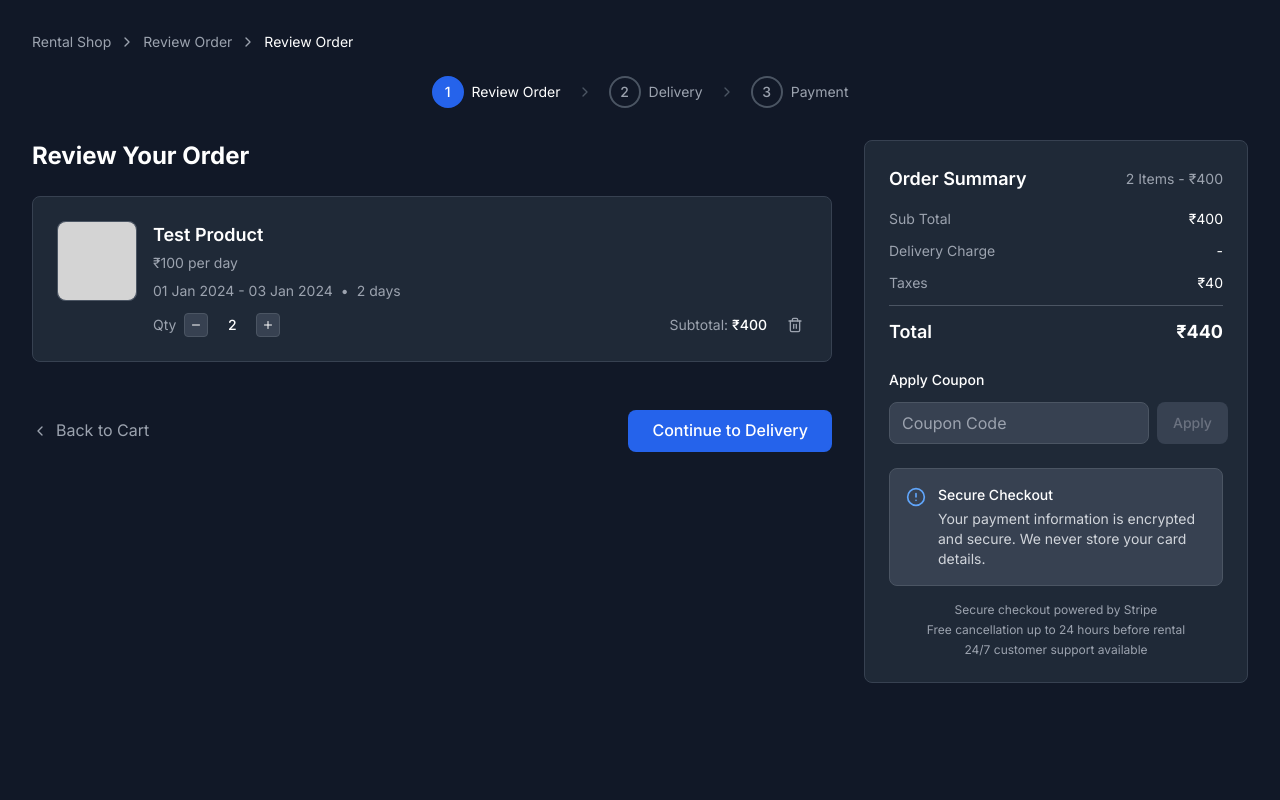
Test: CheckoutPage › navigates through checkout steps without validation
Check: the heading "Review Your Order" is shown, box top-left (32, 141), bottom-right (249, 170)
Note: Click continue to delivery - should proceed without validation
Step 1. Click the button "Continue to Delivery" → (730, 431), box top-left (628, 410), bottom-right (832, 452)
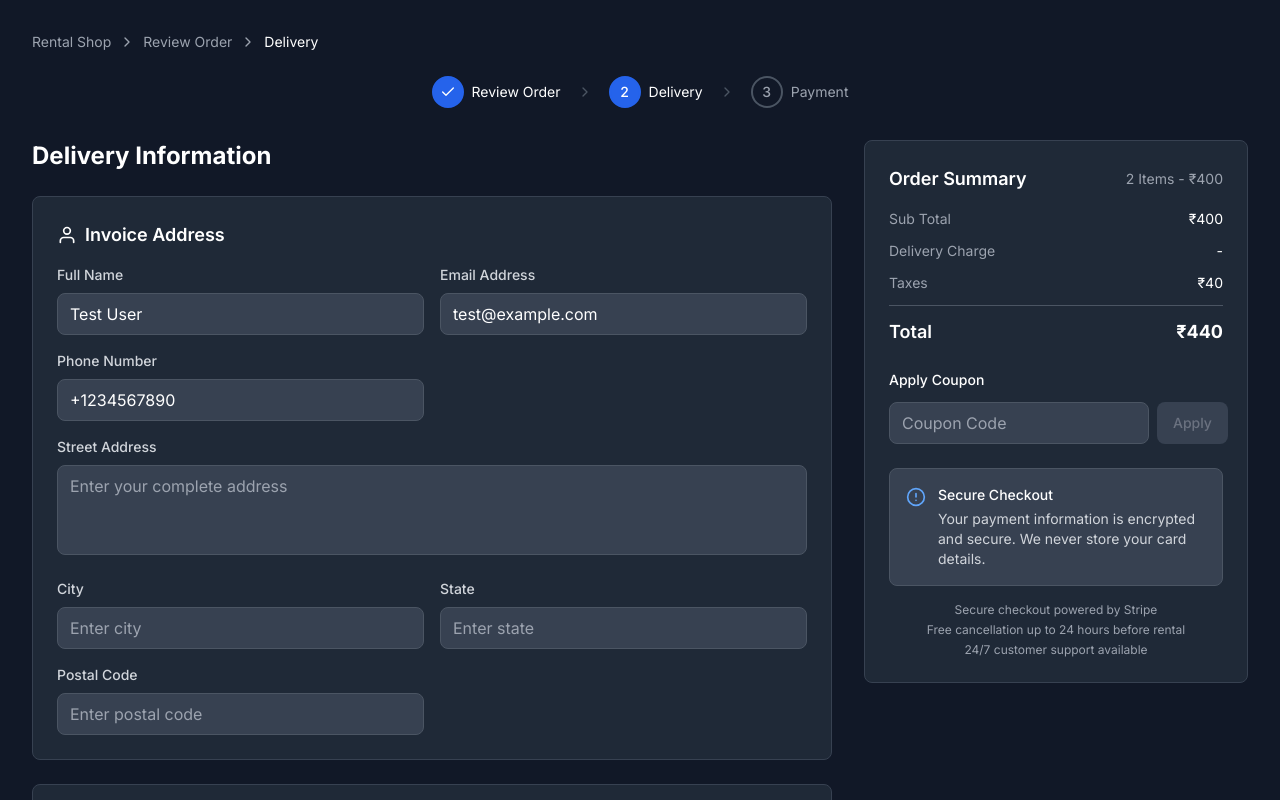
Check: the heading "Delivery Information" is shown, box top-left (32, 141), bottom-right (271, 170)
